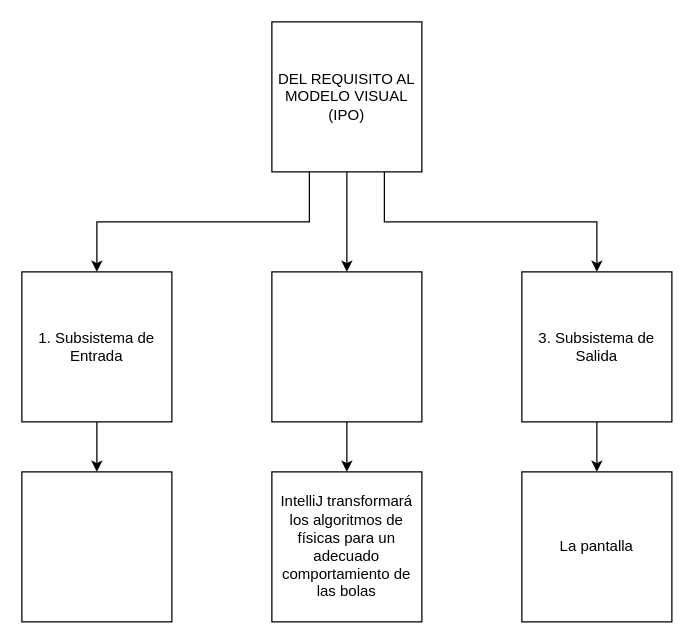
Image size: 694x644. Some labels were removed from this diagram. Here are the shapes that lost their labels. From the top down, the box of each, then its label:
(271, 271, 422, 422): 2. Subsistema de Proceso
(21, 471, 172, 622): Teclado
